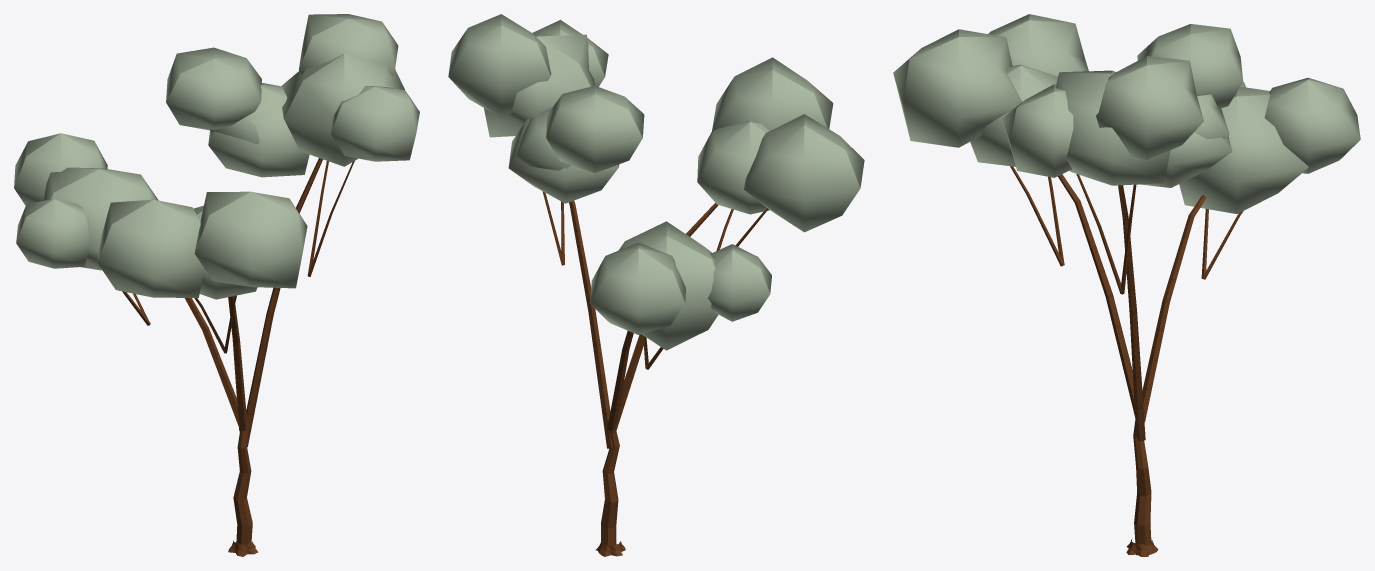
File: maple-young.glb
3 views of the same model, side by side, from view 1: azimuth 30°, elevation 25°; view 2: azimuth 150°, elevation 25°; view 3: azimuth 270°, elevation 25° (orthographic). The views are drawn at different scales.
Parts seen in each view (by area): view 1: sycamore-young; view 2: sycamore-young; view 3: sycamore-young.
Boxes of the visible parts, x1,y1,x2,y2 form: sycamore-young: (14,14,419,556); sycamore-young: (448,14,864,556); sycamore-young: (893,14,1360,556).
Bounding box in the file's own units: 4.53 × 6.13 × 4.79.
Materials: 2 (1 with a texture image).
